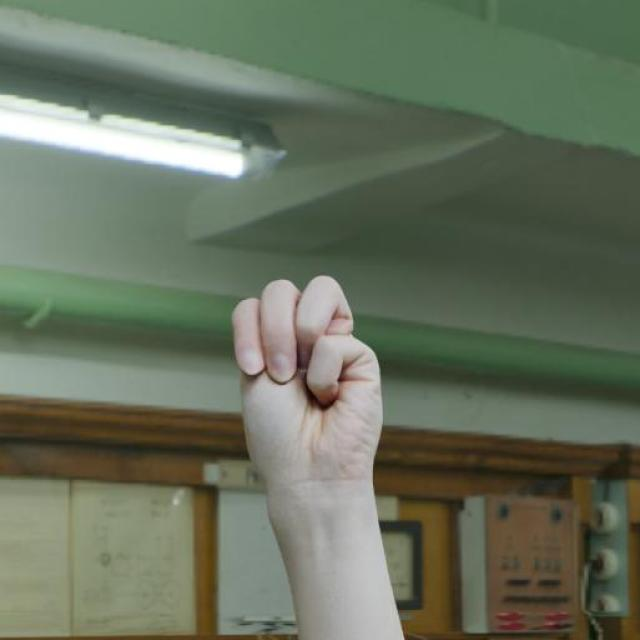M: (228, 274, 387, 494)
